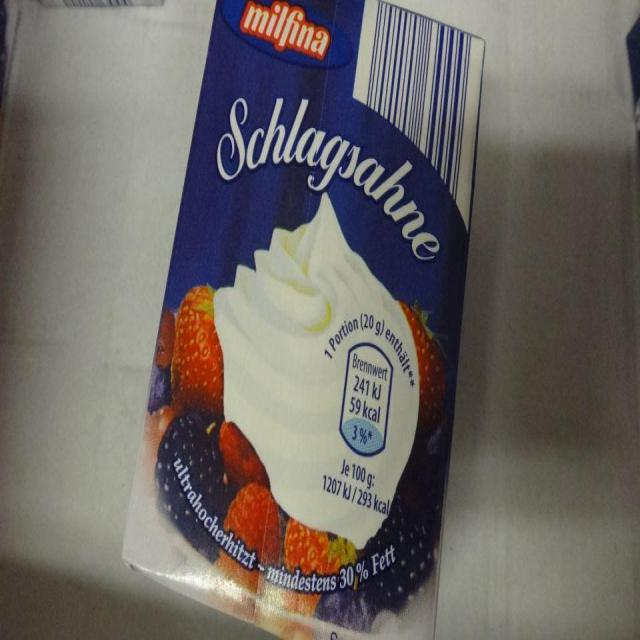Cream: (123, 0, 483, 638)
